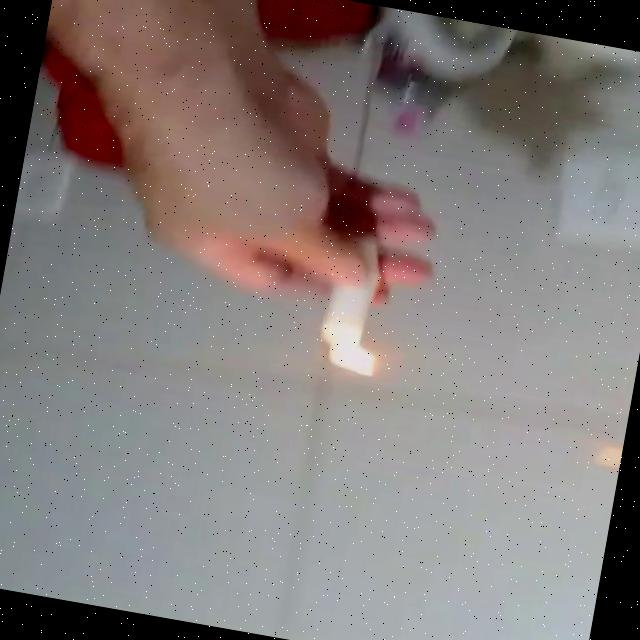fire: (319, 333, 385, 382)
